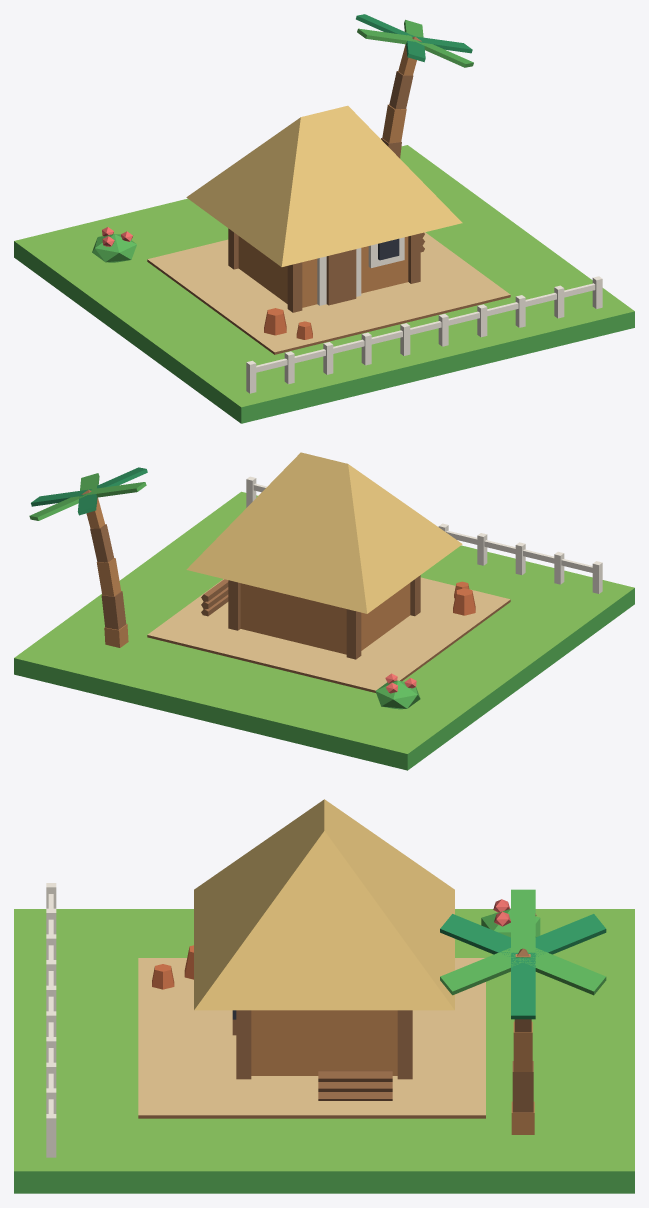
Rendered from house_hut.glb.
3 views of the same model, one above another, from view 1: azimuth 30°, elevation 25°; view 2: azimuth 150°, elevation 25°; view 3: azimuth 270°, elevation 25° (orthographic). The views are drawn at different scales.
Parts seen in each view (by area): view 1: house_hut; view 2: house_hut; view 3: house_hut.
Boxes of the visible parts, box(x1,y1,x2,y2) form: house_hut: box(14, 14, 634, 423); house_hut: box(14, 452, 634, 770); house_hut: box(14, 799, 634, 1193).
Size of the model in its own units: 1.05 by 0.4411 by 1.
